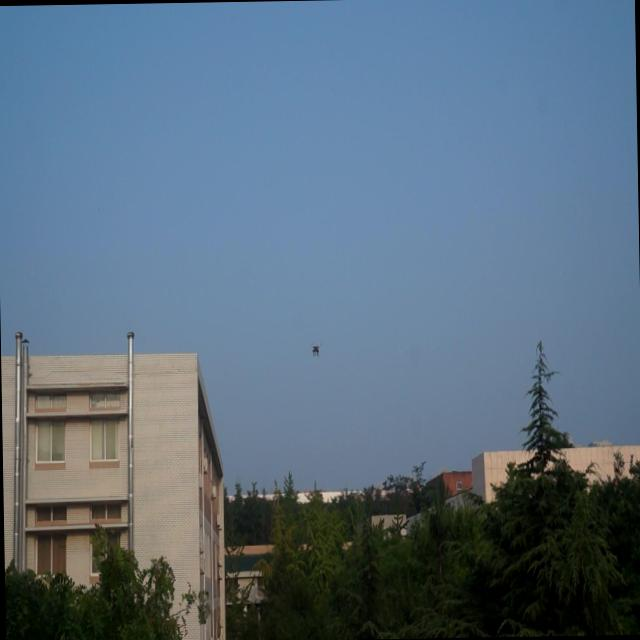drone: (309, 339, 323, 358)
